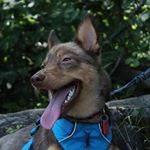puppy: (25, 10, 113, 150)
